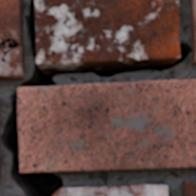brick: (18, 80, 195, 171), (35, 0, 179, 66), (0, 0, 23, 79), (191, 0, 195, 63), (182, 182, 195, 195)
broken_brick: (54, 184, 168, 195), (0, 194, 22, 195)
crack: (0, 0, 193, 195)
